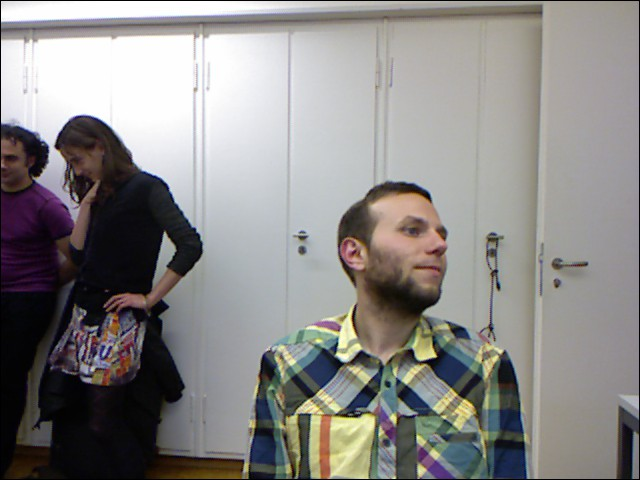deflection: (269, 184, 503, 480)
